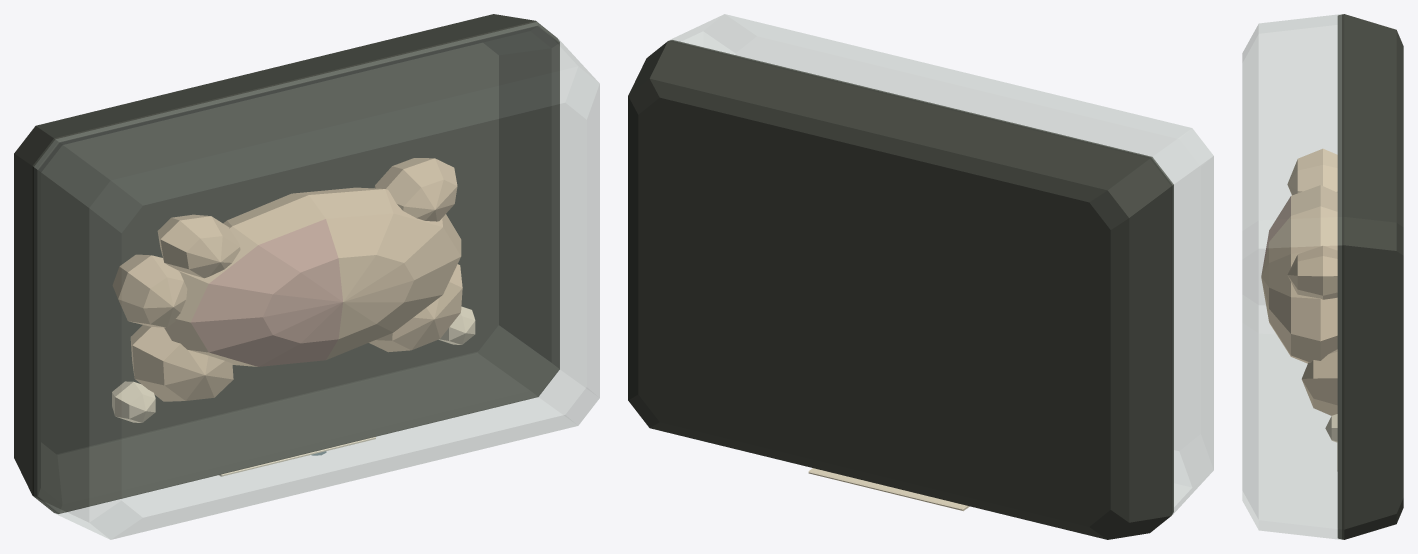
Rendered from duck.glb.
3 views of the same model, side by side, from view 1: azimuth 30°, elevation 25°; view 2: azimuth 150°, elevation 25°; view 3: azimuth 270°, elevation 25° (orthographic). The views are drawn at different scales.
Parts seen in each view (by area): view 1: duck; view 2: duck; view 3: duck.
Part boxes in pixels (box(x1,y1,x2,y2)): duck: box(14, 14, 599, 539); duck: box(628, 14, 1213, 539); duck: box(1242, 14, 1403, 539).
Size of the model in its own units: 0.22 by 0.152 by 0.068.
